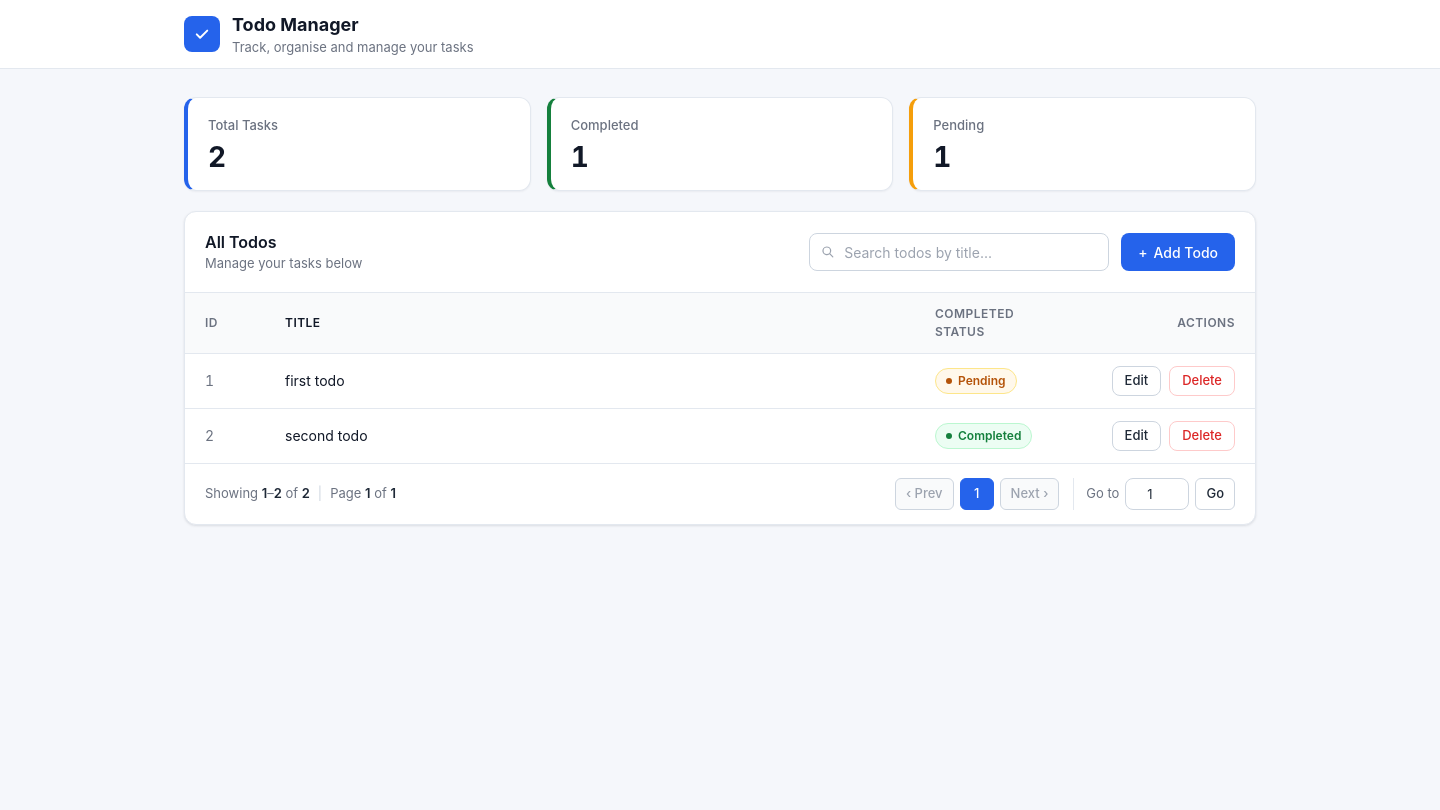
it: Error handling › keeps the row and shows an error when delete fails
Click the button "Delete" in the row of "first todo" at point(1202, 381), box [1169,366,1235,396]
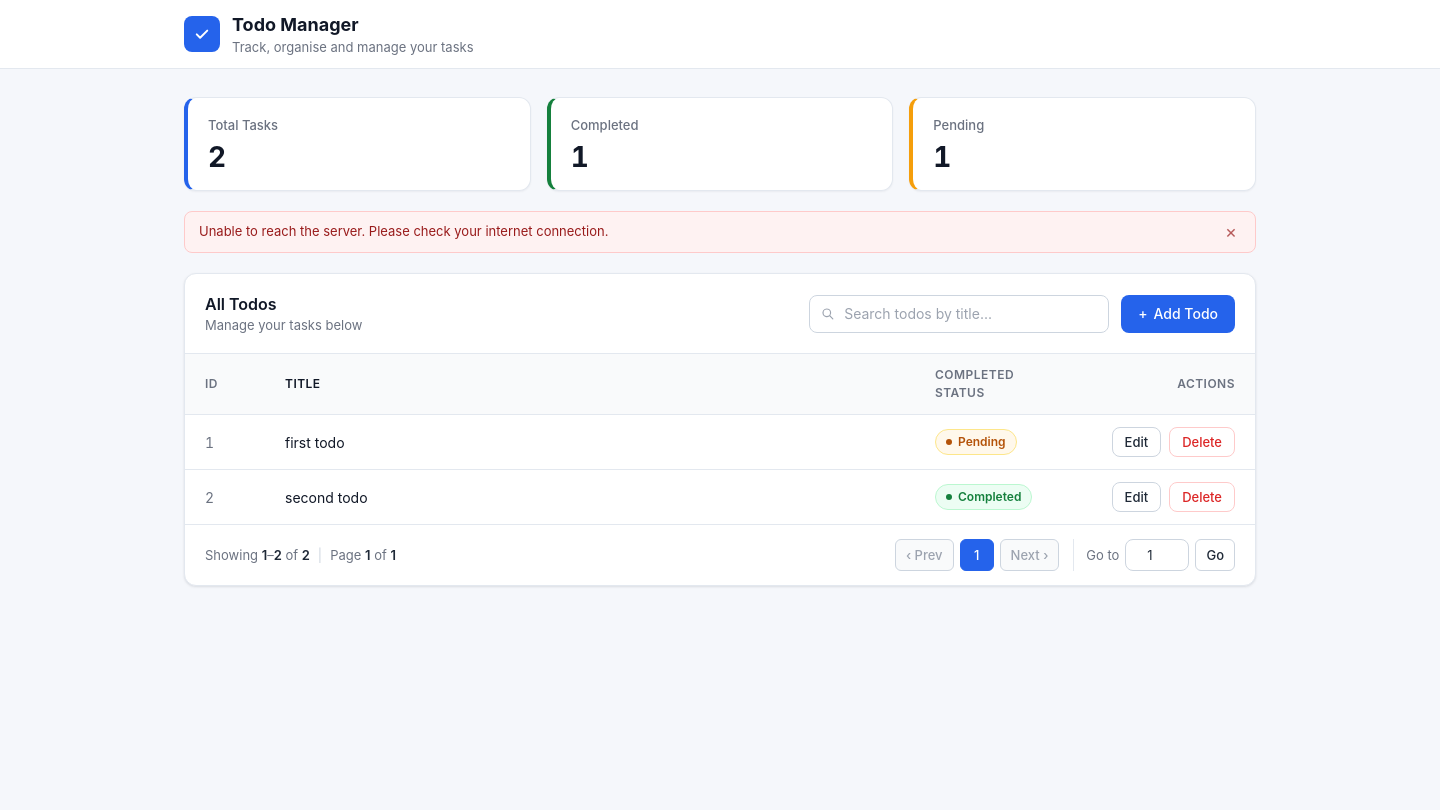
Expected: the text "first todo" is shown, [265,415,915,470]
Result: the text "Unable to reach the server" is shown at [199,223,608,239]
